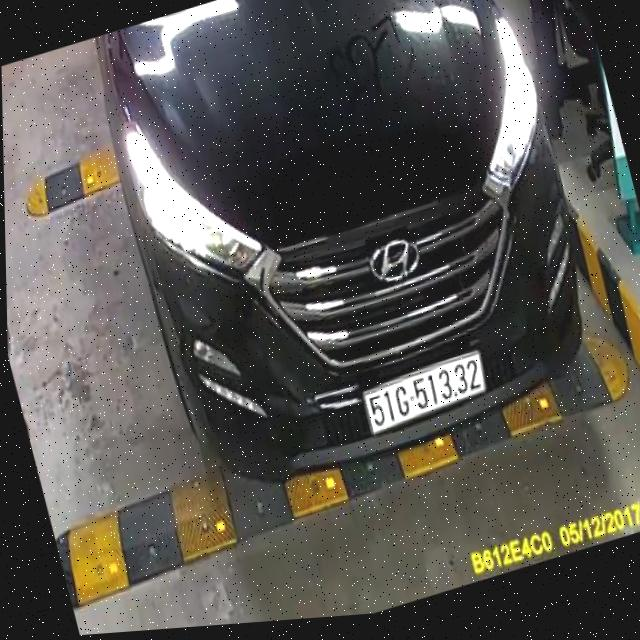car: (78, 0, 626, 528)
plate: (354, 346, 496, 437)
